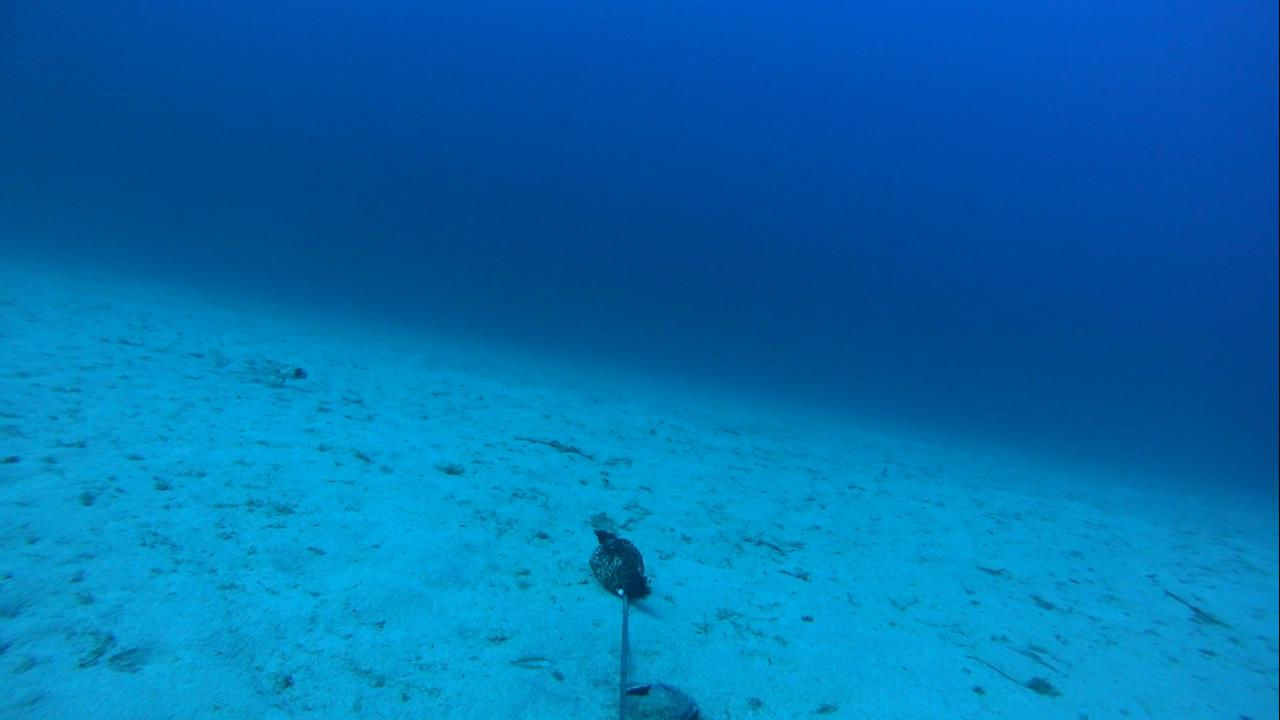dactylopterus: (206, 338, 311, 390)
